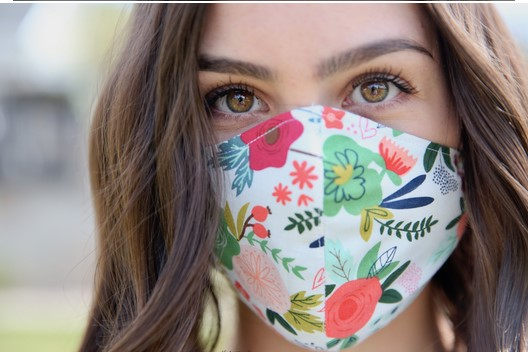face_with_mask: (145, 4, 499, 352)
